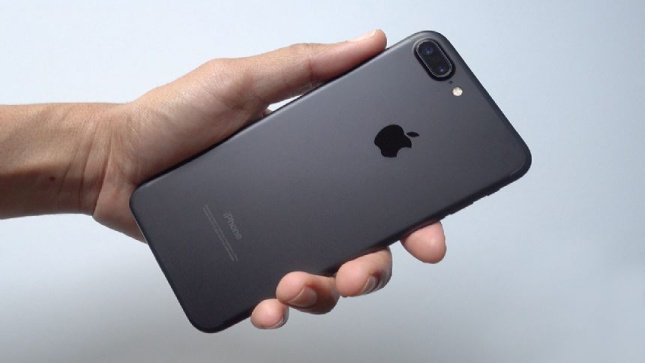apple: (365, 115, 433, 164)
